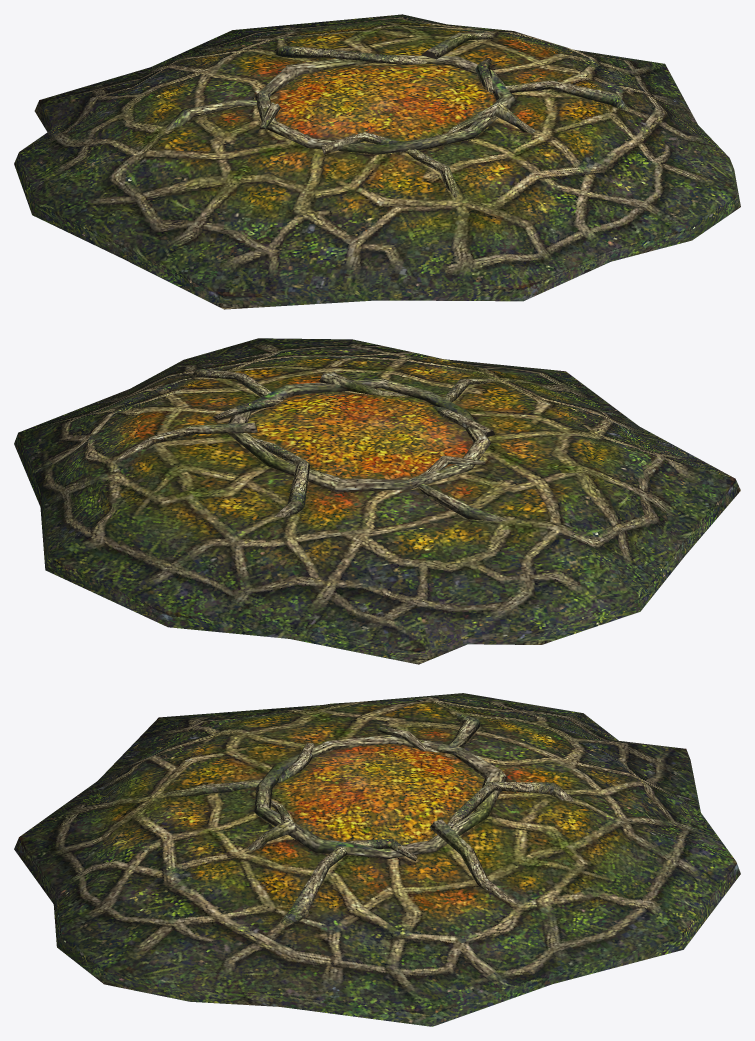
The model's file is deadmushroom_06.glb.
3 renders of one model, top to bottom at view 1: azimuth 30°, elevation 25°; view 2: azimuth 150°, elevation 25°; view 3: azimuth 270°, elevation 25°, orthographic. The views are drawn at different scales.
Parts seen in each view (by area): view 1: deadmushroom_06; view 2: deadmushroom_06; view 3: deadmushroom_06.
Boxes of the visible parts, x1,y1,x2,y2 form: deadmushroom_06: [14, 14, 740, 309]; deadmushroom_06: [14, 338, 740, 664]; deadmushroom_06: [14, 693, 740, 1026].
Size of the model in its own units: 9.61 by 1.16 by 9.13.
1 material, 1 textured.
